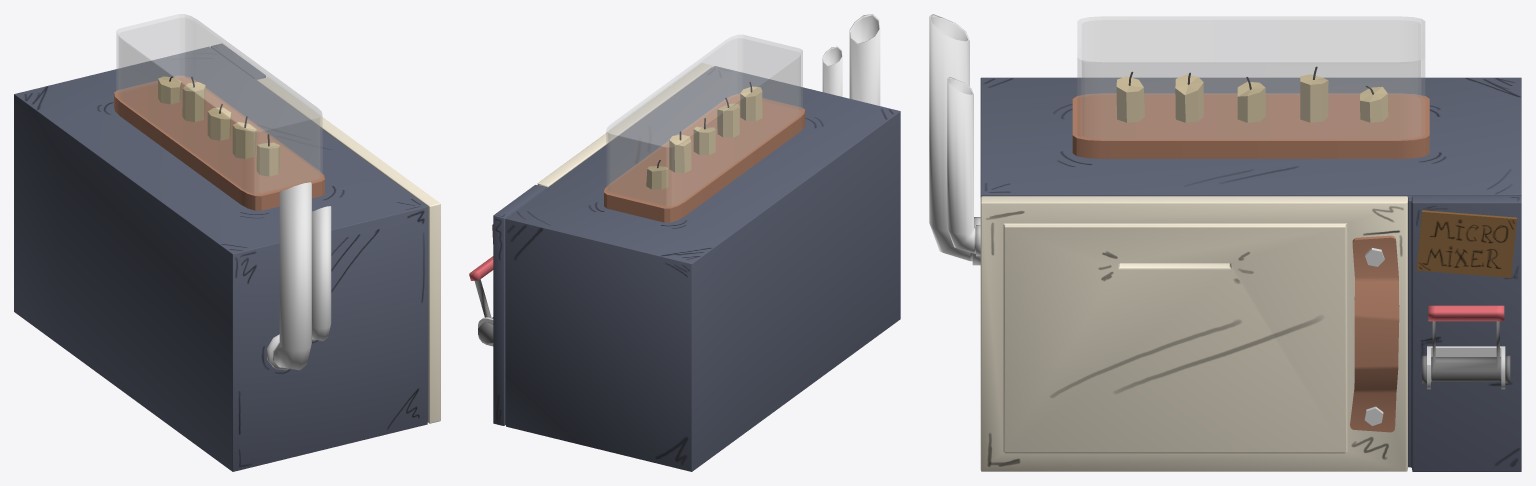
Rendered from microondas.fbx.
The picture shows the model from 3 angles, left to right: view 1: azimuth 30°, elevation 25°; view 2: azimuth 150°, elevation 25°; view 3: azimuth 270°, elevation 25°; orthographic projection. The views are drawn at different scales.
Visible parts, largest first — view 1: Micro, Velas, Canos, Porta; view 2: Micro, Velas, Canos, Porta, Alavanca; view 3: Porta, Micro, Velas, Canos, Puxador, Placa, Alavanca, Dobradiça.
Boxes of the visible parts, x1,y1,x2,y2 form: Micro: (14, 43, 428, 471); Velas: (114, 14, 324, 210); Canos: (267, 182, 331, 370); Porta: (257, 77, 440, 423); Micro: (493, 66, 900, 471); Velas: (604, 34, 805, 222); Canos: (822, 14, 880, 105); Porta: (537, 63, 712, 187); Alavanca: (469, 256, 493, 343); Porta: (980, 196, 1407, 471); Micro: (980, 77, 1521, 471); Velas: (1072, 16, 1429, 158); Canos: (929, 14, 980, 265); Puxador: (1350, 235, 1399, 432); Placa: (1416, 210, 1516, 277); Alavanca: (1422, 305, 1510, 383); Dobradiça: (1427, 346, 1505, 389).
Bounding box in the file's own units: 231 × 271 × 399.
